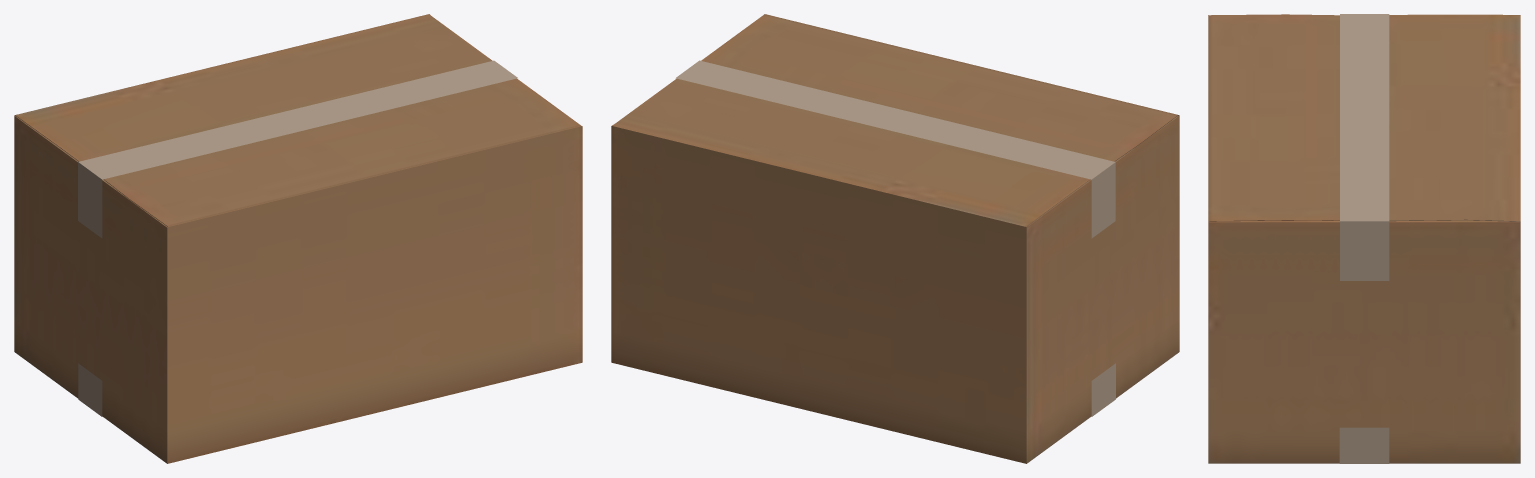
File: sc_cardboard_box.glb
3 renders of one model, left to right at view 1: azimuth 30°, elevation 25°; view 2: azimuth 150°, elevation 25°; view 3: azimuth 270°, elevation 25°, orthographic. The views are drawn at different scales.
Parts seen in each view (by area): view 1: cardboard, tape; view 2: cardboard, tape; view 3: cardboard, tape.
Boxes of the visible parts, bbox=[...] form: cardboard: bbox=[14, 14, 582, 463]; tape: bbox=[78, 60, 517, 416]; cardboard: bbox=[611, 14, 1179, 463]; tape: bbox=[675, 60, 1115, 416]; cardboard: bbox=[1208, 14, 1520, 463]; tape: bbox=[1339, 14, 1389, 463].
Bounding box in the file's own units: 0.55 × 0.3 × 0.35.
Materials: 2 (1 with a texture image).
